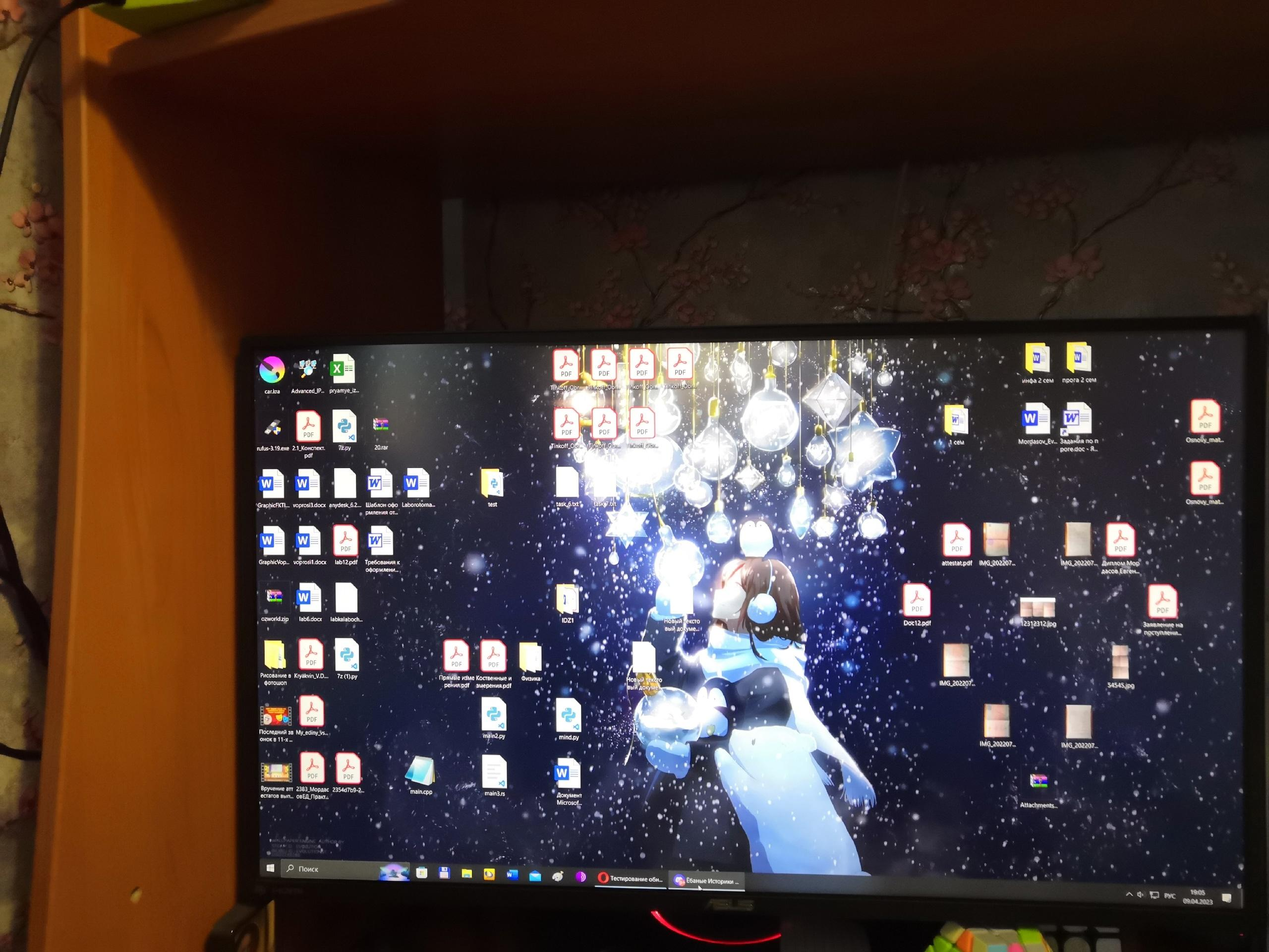monitor: (232, 321, 1267, 942)
